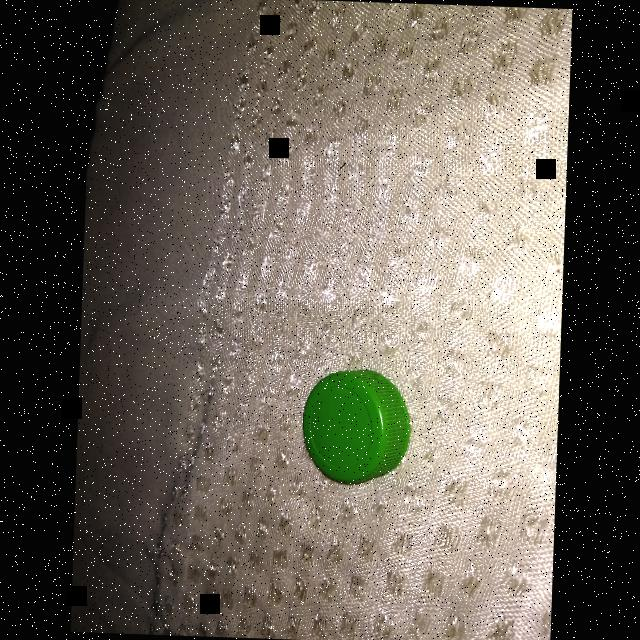plastic_bottle_cap: (298, 366, 412, 484)
